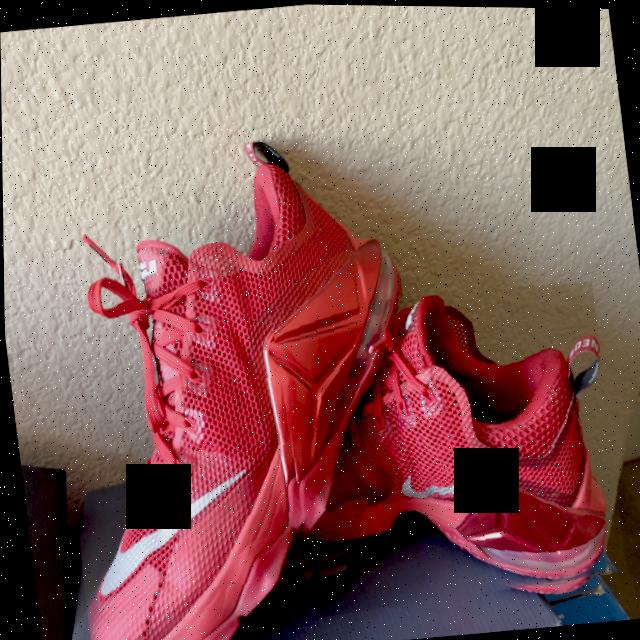shoe: (32, 124, 441, 640), (269, 276, 628, 622)
